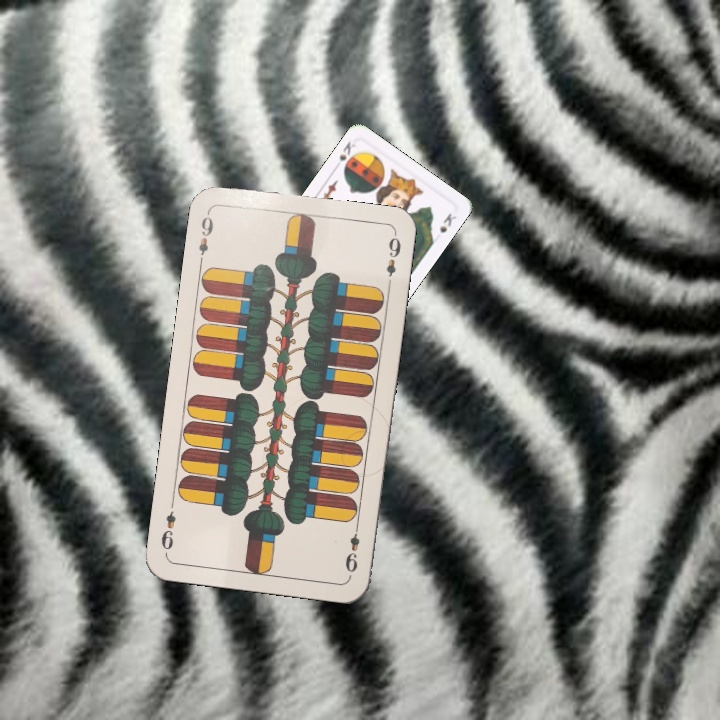E9: (194, 208, 216, 267), (341, 519, 363, 575)
SK: (331, 137, 358, 172)
